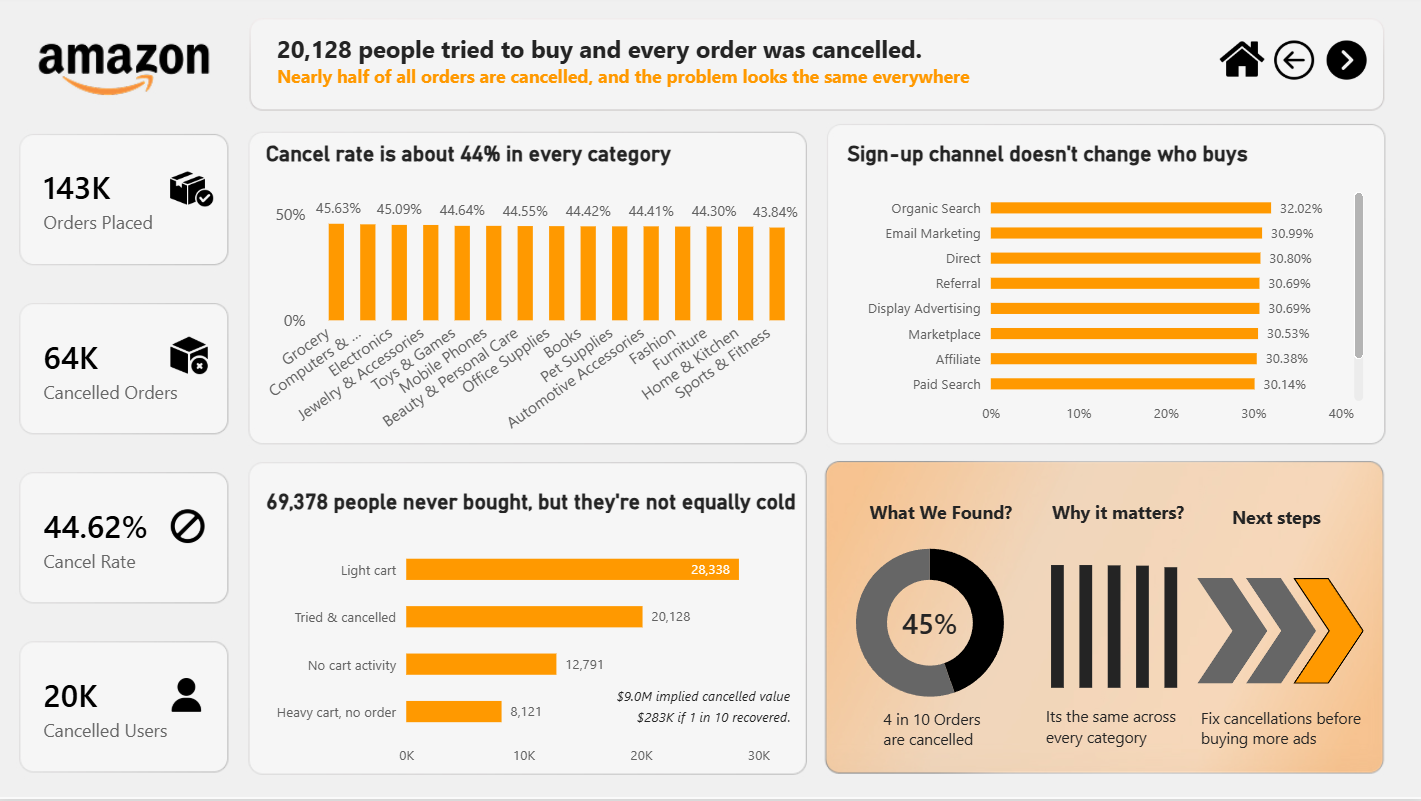

The dashboard page shown, as its layout file describes it:
{"tool":"powerbi","page":{"name":"Where we lose sales","canvas":[1920,1080],"ordinal":1},"visuals":[{"type":"shape","box":[337.5,107.5,725,445],"z":0},{"type":"textbox","box":[40,30,1467.5,107.5],"z":1000},{"type":"cardVisual","fields":{"Data":["rfm_powerbi.Orders Placed"]},"box":[62,138,278,172],"z":2000},{"type":"cardVisual","fields":{"Data":["rfm_powerbi.Cancelled Orders"]},"box":[62,362,282,160],"z":3000},{"type":"cardVisual","fields":{"Data":["rfm_powerbi.Cancel Rate"]},"box":[62,574,282,170],"z":4000},{"type":"cardVisual","fields":{"Data":["rfm_powerbi.All-Cancelled Users"]},"box":[62,856,295,150],"z":5000},{"type":"clusteredColumnChart","title":"Cancel rate is about 44% in every category","fields":{"Category":["rfm_powerbi.Preferred_Category"],"Y":["rfm_powerbi.Cancel Rate"]},"box":[360,576.7,725,444],"z":6000},{"type":"textbox","box":[750,410,312,112],"z":8000},{"type":"clusteredBarChart","title":"Sign-up channel doesn''t change who buys","fields":{"Category":["rfm_powerbi.Preferred_Marketing_Channel"],"Y":["rfm_powerbi.Conversion %"]},"box":[1120,106.7,725,445],"z":9000},{"type":"shape","box":[1106.7,573.3,725,445],"z":10000},{"type":"textbox","box":[1093.3,586.7,755,420],"z":11000},{"type":"clusteredBarChart","title":"69,378 people never bought, but they''re not equally cold","fields":{"Category":["rfm_powerbi.Non_Buyer_Tier"],"Y":["rfm_powerbi.Total Users"]},"box":[346.7,136.7,693.3,416.7],"z":11500},{"type":"shape","box":[40,148,280,150],"z":11501}]}

Visuals, with their boxes in screenshot pixels (x1, y1, x2, y2), scaled from the page's 1920x1080 canvas onto the 1421x801 screenshot:
shape: 250,80,786,410
textbox: 30,22,1116,102
cardVisual - rfm_powerbi.Orders Placed: 46,102,252,230
cardVisual - rfm_powerbi.Cancelled Orders: 46,268,255,387
cardVisual - rfm_powerbi.Cancel Rate: 46,426,255,552
cardVisual - rfm_powerbi.All-Cancelled Users: 46,635,264,746
"Cancel rate is about 44% in every category" clusteredColumnChart: 266,428,803,757
textbox: 555,304,786,387
"Sign-up channel doesn''t change who buys" clusteredBarChart: 829,79,1365,409
shape: 819,425,1356,755
textbox: 809,435,1368,747
"69,378 people never bought, but they''re not equally cold" clusteredBarChart: 257,101,770,410
shape: 30,110,237,221
